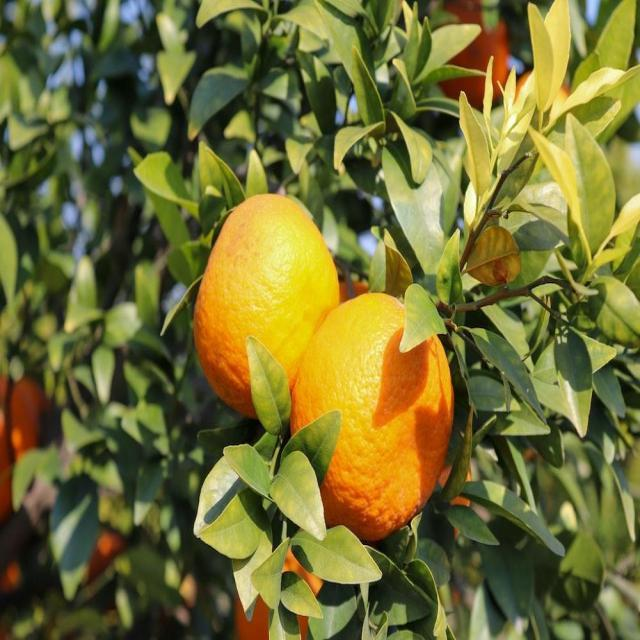Jeruk Sudah Matang: (287, 290, 456, 545), (194, 189, 340, 429), (234, 535, 334, 640), (431, 0, 506, 110), (0, 372, 43, 528)
